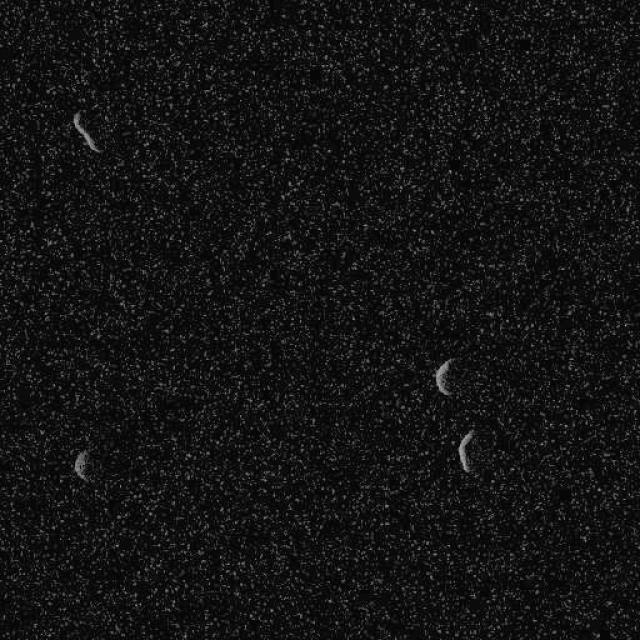D2: (72, 108, 102, 154), (456, 426, 476, 474), (434, 356, 456, 396), (71, 448, 91, 482)
